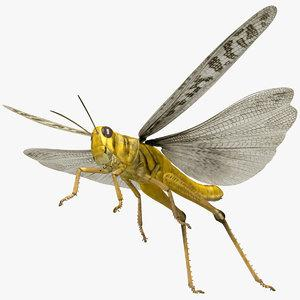locust: (19, 20, 299, 225)
